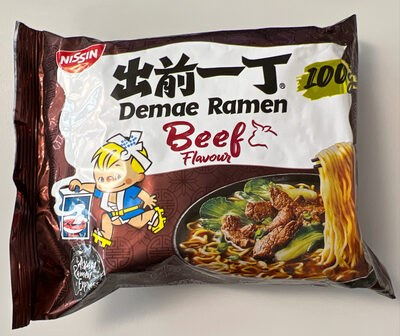demae ramen: (20, 17, 380, 319)
